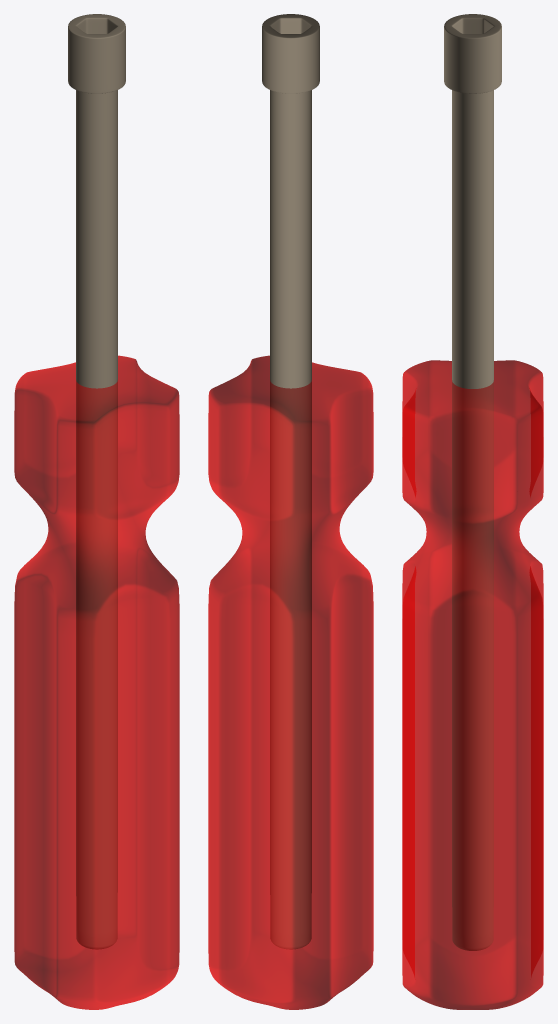
Rendered from 13067_Hex_Head_Screwdriver_v1_L3.obj.
3 renders of one model, left to right at view 1: azimuth 30°, elevation 25°; view 2: azimuth 150°, elevation 25°; view 3: azimuth 270°, elevation 25°, orthographic.
Visible parts, largest first — view 1: hex_head_handle, hex_head_screwdriver_body; view 2: hex_head_handle, hex_head_screwdriver_body; view 3: hex_head_handle, hex_head_screwdriver_body.
Part boxes in pixels (box(x1,y1,x2,y2)): hex_head_handle: box(14, 355, 179, 1009); hex_head_screwdriver_body: box(68, 14, 125, 949); hex_head_handle: box(208, 355, 373, 1009); hex_head_screwdriver_body: box(262, 14, 319, 949); hex_head_handle: box(402, 360, 543, 1009); hex_head_screwdriver_body: box(444, 14, 501, 950).
Size of the model in its own units: 2.12 by 16.12 by 2.12.
